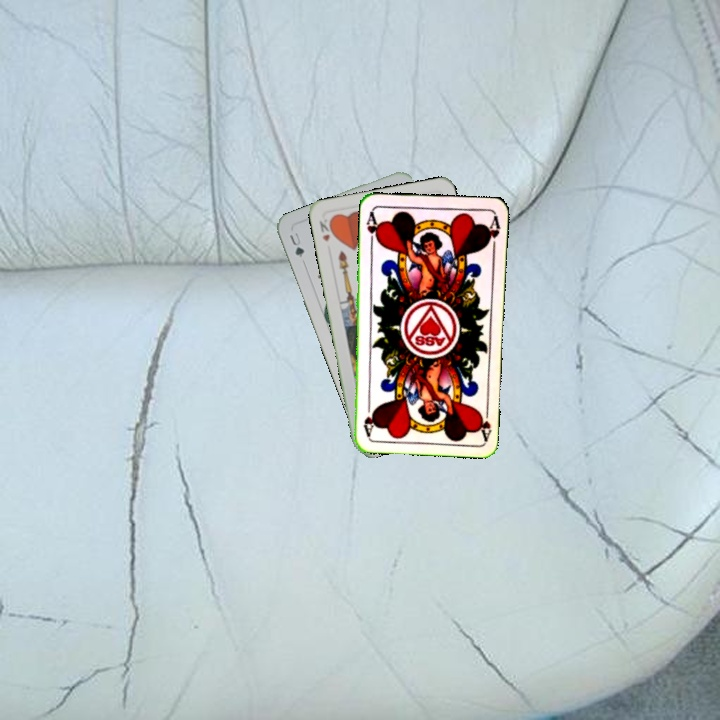GU: (285, 228, 307, 260)
HA: (362, 207, 382, 248), (474, 401, 494, 442)
HK: (315, 215, 336, 244)
